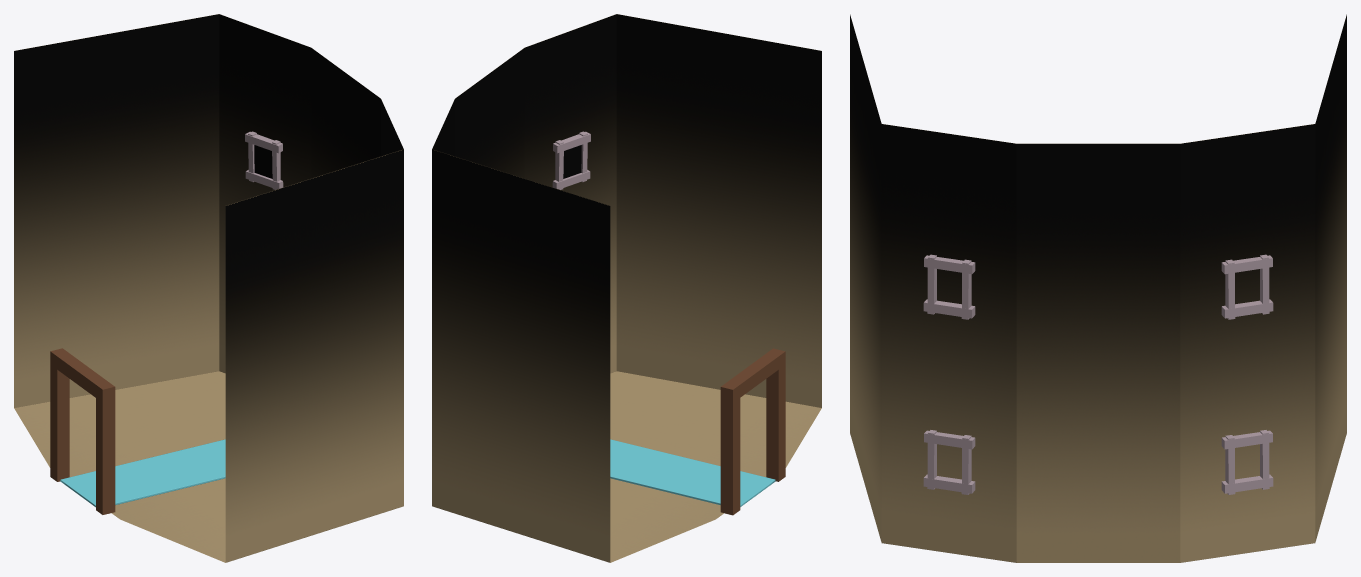
The model's file is guild_interior.glb.
3 renders of one model, left to right at view 1: azimuth 30°, elevation 25°; view 2: azimuth 150°, elevation 25°; view 3: azimuth 270°, elevation 25°, orthographic. The views are drawn at different scales.
Visible parts, largest first — view 1: Plane-col, Cube, Cube.001, Windows; view 2: Plane-col, Cube, Cube.001, Windows; view 3: Plane-col, Windows.
Boxes of the visible parts, x1,y1,x2,y2 form: Plane-col: [14, 14, 403, 562]; Cube: [50, 348, 115, 514]; Cube.001: [60, 439, 225, 507]; Windows: [245, 131, 283, 189]; Plane-col: [432, 14, 821, 562]; Cube: [720, 348, 785, 515]; Cube.001: [610, 439, 775, 506]; Windows: [552, 131, 590, 189]; Plane-col: [850, 14, 1346, 562]; Windows: [923, 254, 1273, 494].
Bounding box in the file's own units: 26.15 × 33.12 × 35.55.
Materials: 5 (1 with a texture image).
